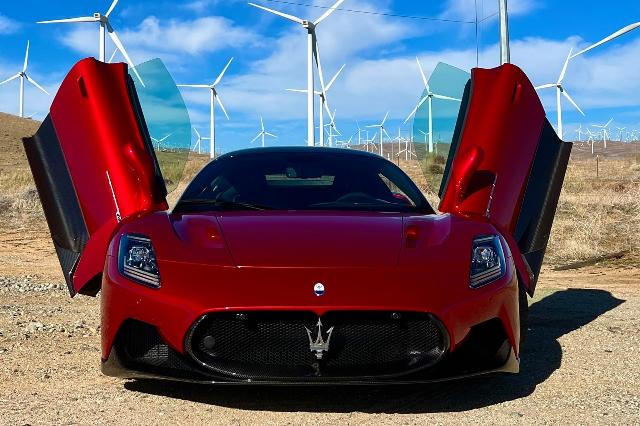maserati: (22, 57, 574, 392)
